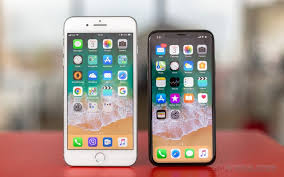iphone: (61, 15, 137, 167), (145, 25, 218, 163)
iphone10: (61, 16, 137, 168), (146, 26, 219, 164)
